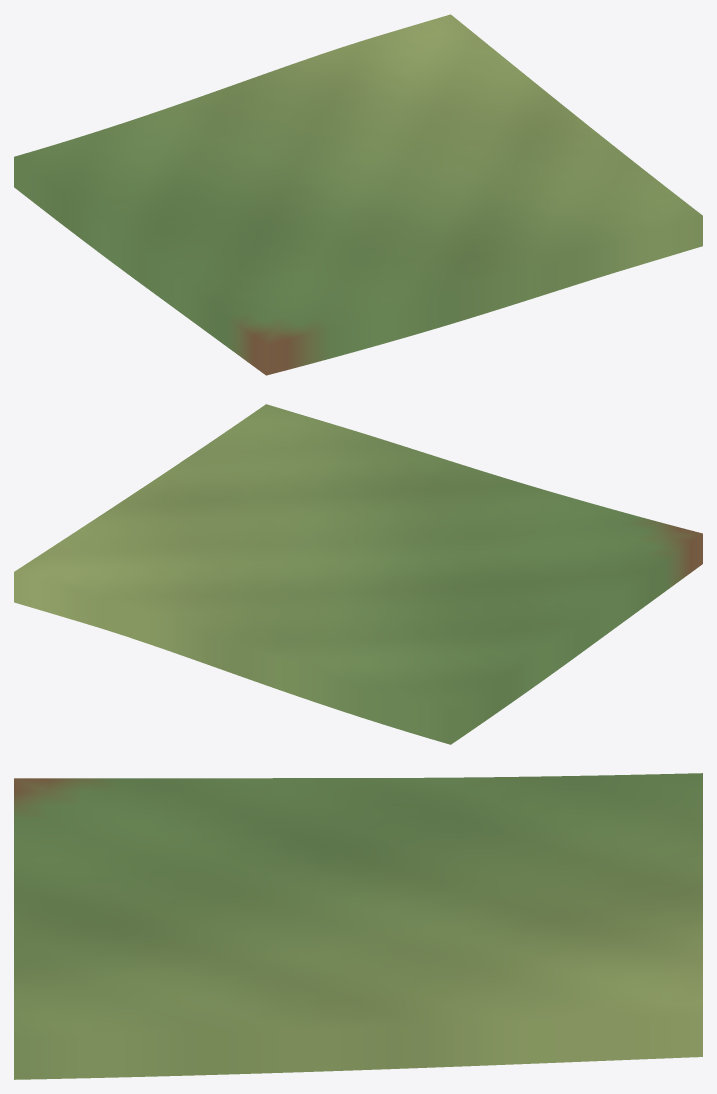
3 views of the same model, one above another, from view 1: azimuth 30°, elevation 25°; view 2: azimuth 150°, elevation 25°; view 3: azimuth 270°, elevation 25° (orthographic). The views are drawn at different scales.
Visible parts, largest first — view 1: terrain; view 2: terrain; view 3: terrain.
Boxes of the visible parts, <box> form: terrain: <box>14,14,702,375</box>; terrain: <box>14,404,702,744</box>; terrain: <box>14,773,702,1079</box>.
Bounding box in the file's own units: 30 × 4.6 × 30.
